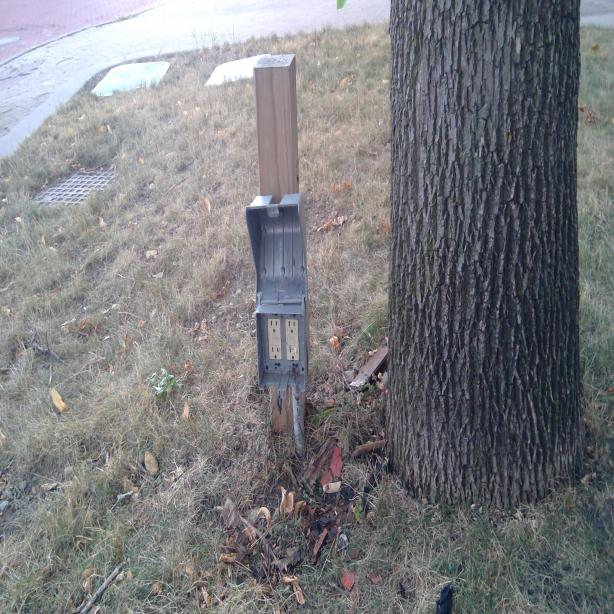typeb: (286, 318, 298, 336), (268, 318, 280, 336), (270, 346, 282, 361), (288, 345, 299, 361)
